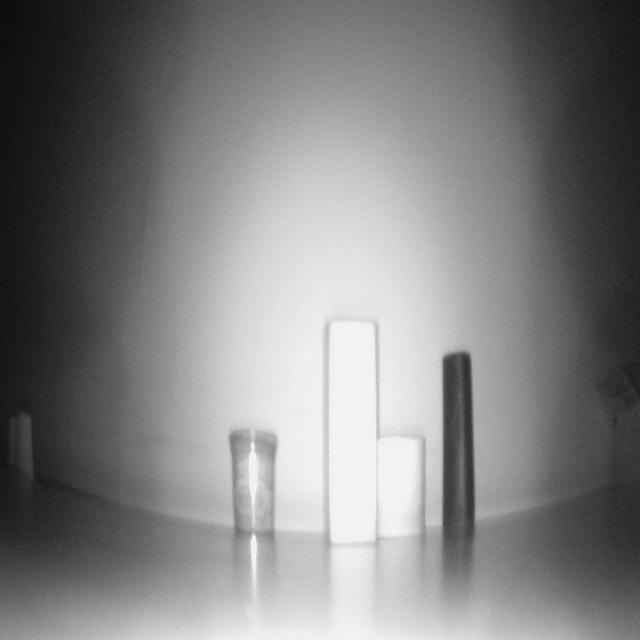targets: (326, 308, 382, 550), (371, 430, 433, 546), (443, 348, 478, 542), (594, 353, 640, 491), (227, 426, 282, 538), (4, 400, 39, 489)
